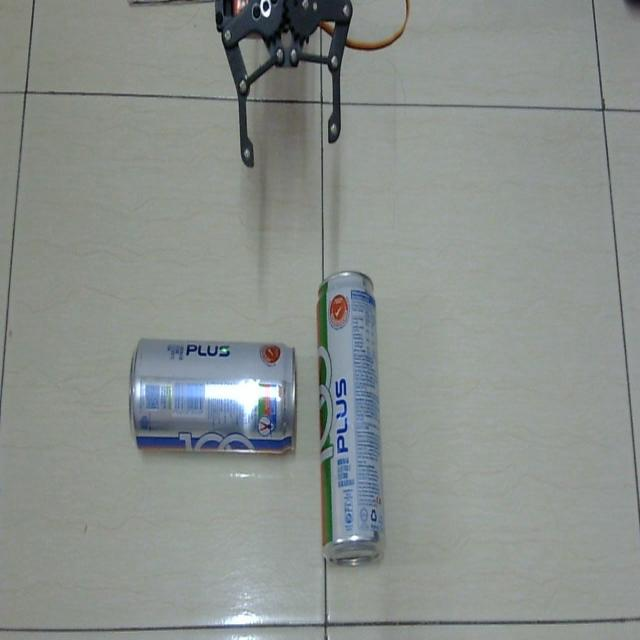metal_laydown_0rotation: (125, 329, 301, 462)
metal_laydown_90rotation: (304, 263, 396, 574)
